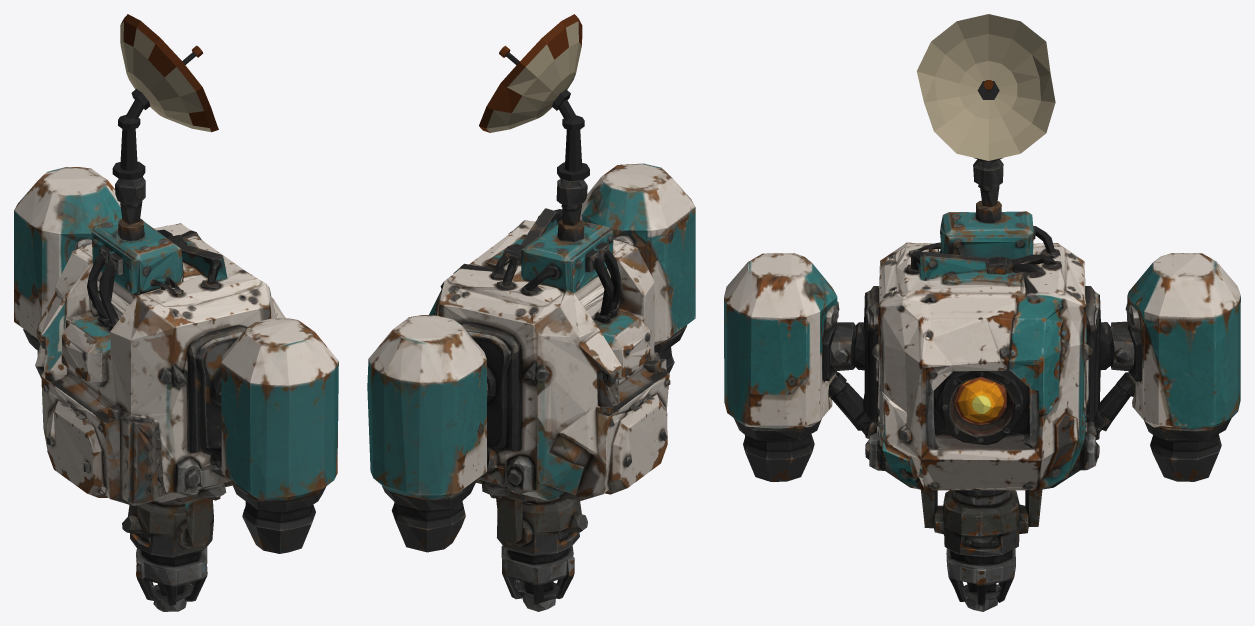
File: SM_Drone_all.fbx
3 renders of one model, left to right at view 1: azimuth 30°, elevation 25°; view 2: azimuth 150°, elevation 25°; view 3: azimuth 270°, elevation 25°, orthographic. The views are drawn at different scales.
Visible parts, largest first — view 1: SM_DroneBase, SM_DroneAntenna, SM_DroneLaser; view 2: SM_DroneBase, SM_DroneAntenna, SM_DroneLaser; view 3: SM_DroneBase, SM_DroneAntenna, SM_DroneLaser.
Part boxes in pixels (x1,y1,x2,y2): SM_DroneBase: (14,167,338,553); SM_DroneAntenna: (112,14,218,180); SM_DroneLaser: (122,500,213,611); SM_DroneBase: (367,163,695,552); SM_DroneAntenna: (479,14,589,181); SM_DroneLaser: (496,496,587,611); SM_DroneBase: (724,159,1240,492); SM_DroneAntenna: (916,14,1055,161); SM_DroneLaser: (920,474,1042,611).
Bounding box in the file's own units: 29.66 × 86.96 × 70.
Materials: 2 (1 with a texture image).
